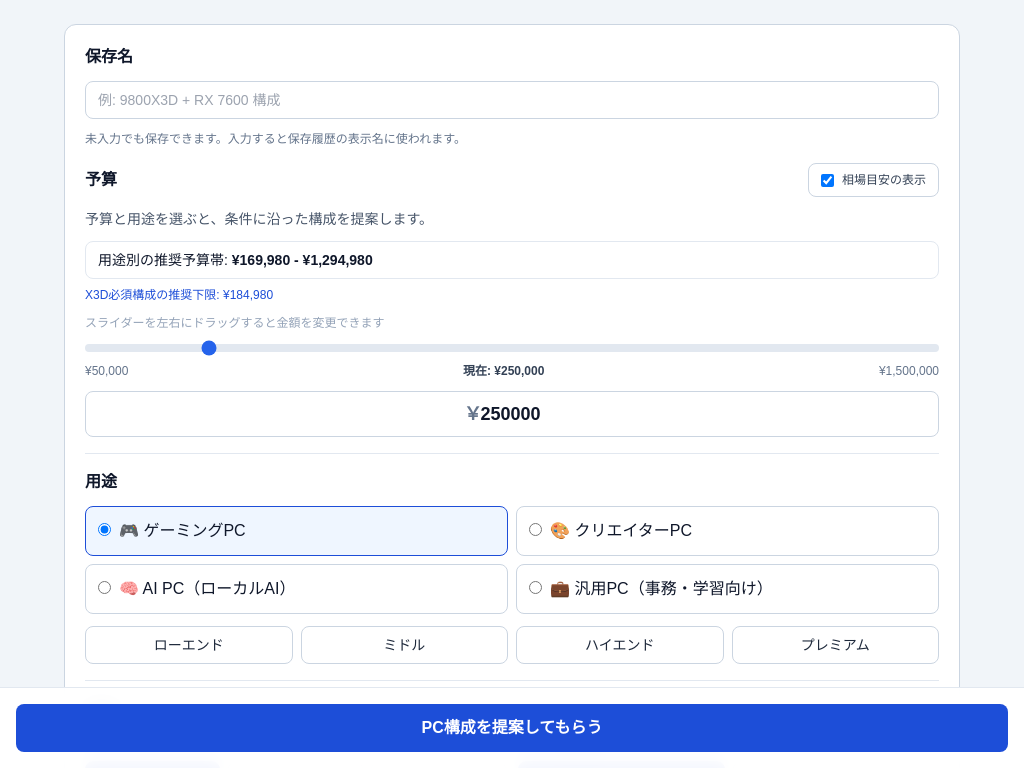
Test: ConfigForm presets › keeps the general middle preset above the low-end tier
This screenshot has width=1024, height=768.
Click the radio button labelled "💼 汎用PC（事務・学習向け）".
click(536, 588)  # box [529,581,542,594]
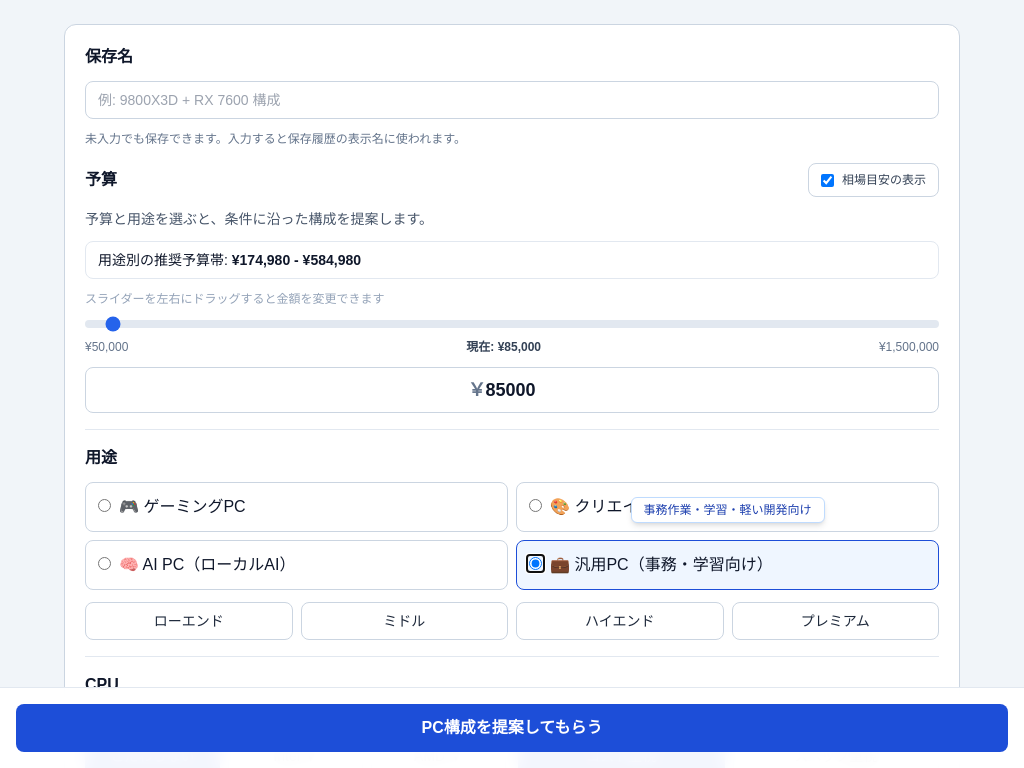
Click the button "ミドル".
click(404, 621)  # box [300,602,508,640]
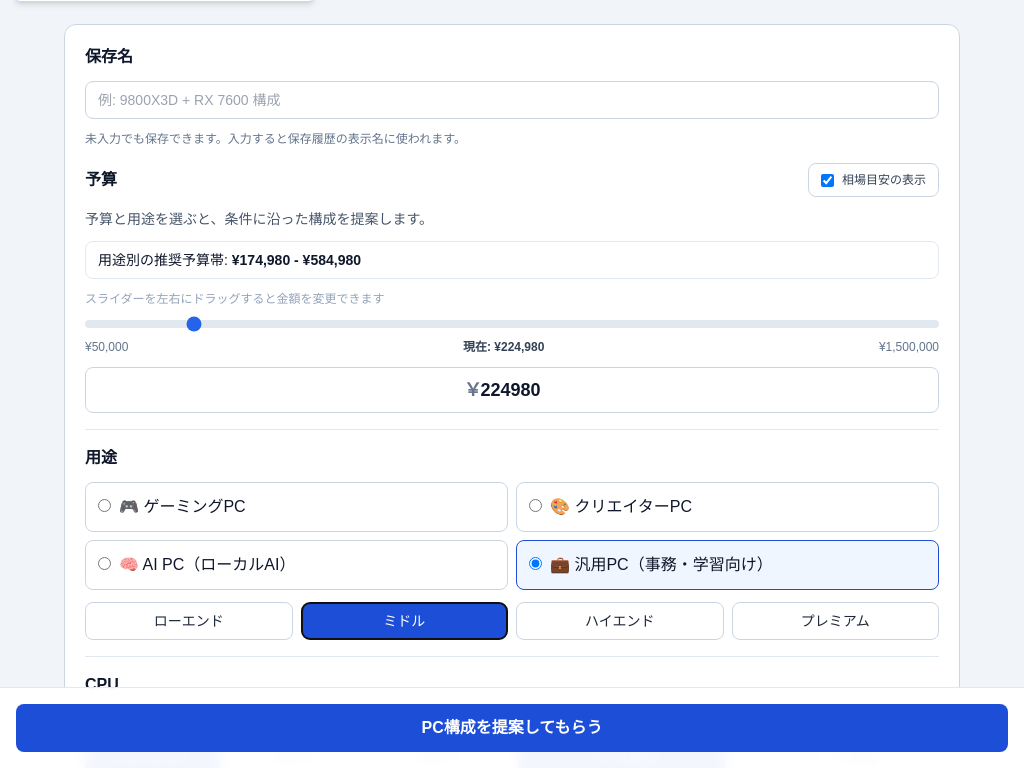
Expected: the number field holds "224980", [85,367,939,413]
Expected: the number field does not hold "85000", [85,367,939,413]
